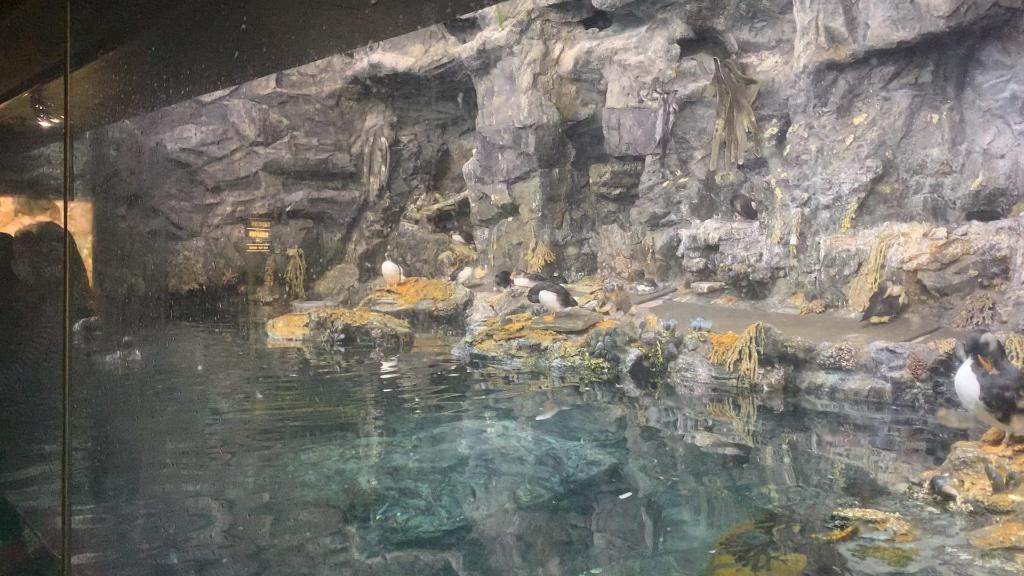puffin: (957, 328, 1023, 450), (857, 278, 911, 322), (524, 278, 580, 320), (374, 247, 410, 285), (725, 188, 763, 222), (506, 266, 546, 288), (446, 224, 478, 250), (446, 256, 472, 286), (488, 266, 514, 290)
